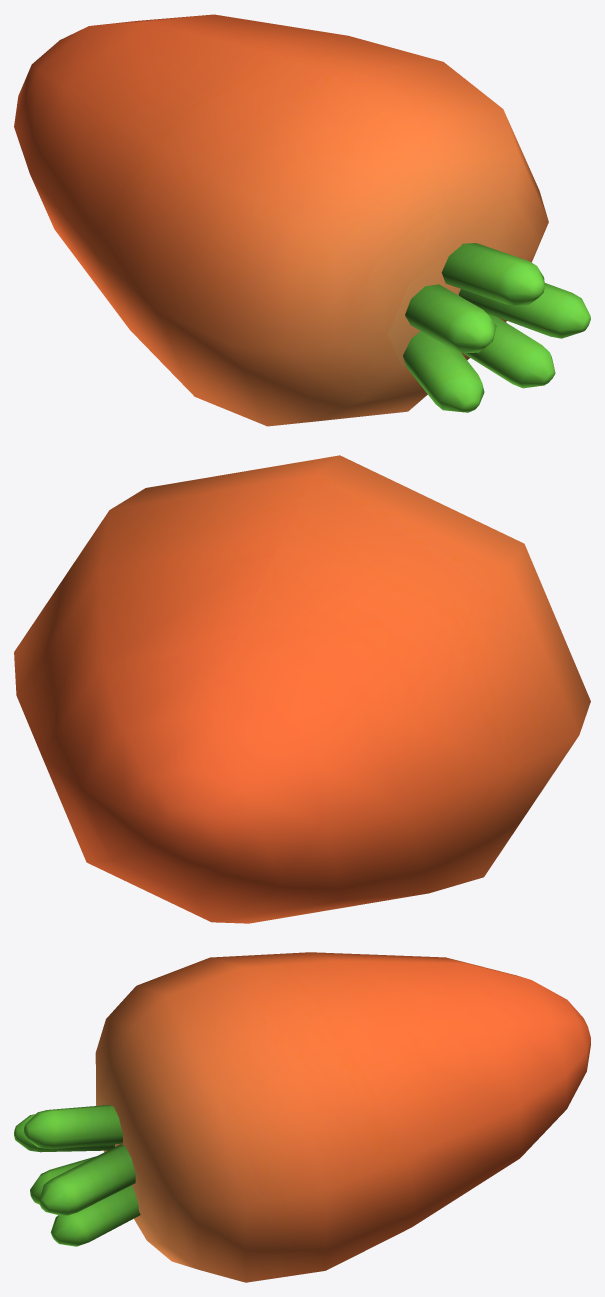
Rendered from carrot.fbx.
3 views of the same model, one above another, from view 1: azimuth 30°, elevation 25°; view 2: azimuth 150°, elevation 25°; view 3: azimuth 270°, elevation 25° (orthographic). The views are drawn at different scales.
Visible parts, largest first — view 1: carrot; view 2: carrot; view 3: carrot.
Part boxes in pixels (x1=…): carrot: x1=14, y1=14, x2=590, y2=426; carrot: x1=14, y1=455, x2=590, y2=923; carrot: x1=14, y1=952, x2=590, y2=1282.
Size of the model in its own units: 0.2223 by 0.1751 by 0.3107.
